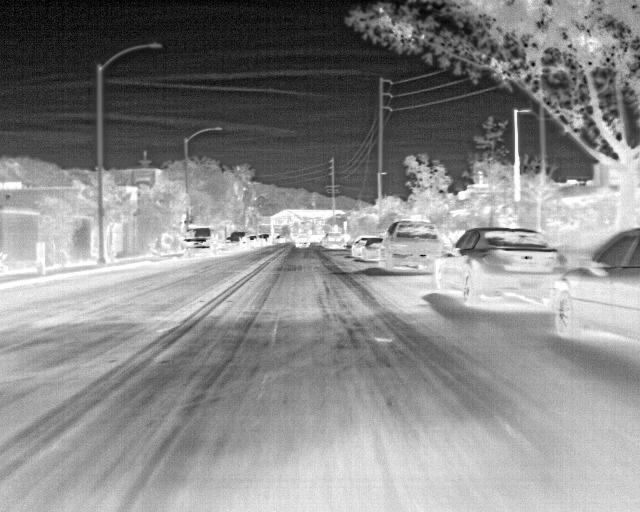car: (433, 225, 564, 306), (549, 226, 638, 342), (381, 219, 447, 272), (185, 225, 215, 254), (350, 235, 381, 263), (323, 232, 346, 250), (237, 232, 253, 249), (292, 232, 309, 247), (221, 235, 237, 250), (273, 232, 287, 246), (261, 232, 273, 247), (252, 234, 264, 249)
